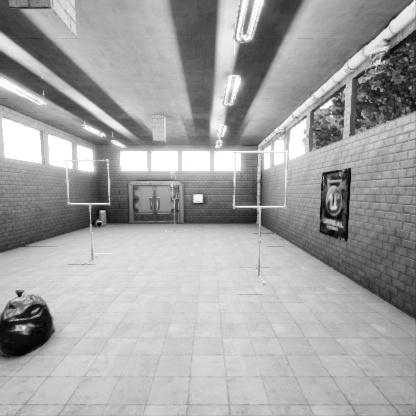gate: (235, 210, 293, 267), (69, 213, 115, 257), (171, 217, 176, 245)
